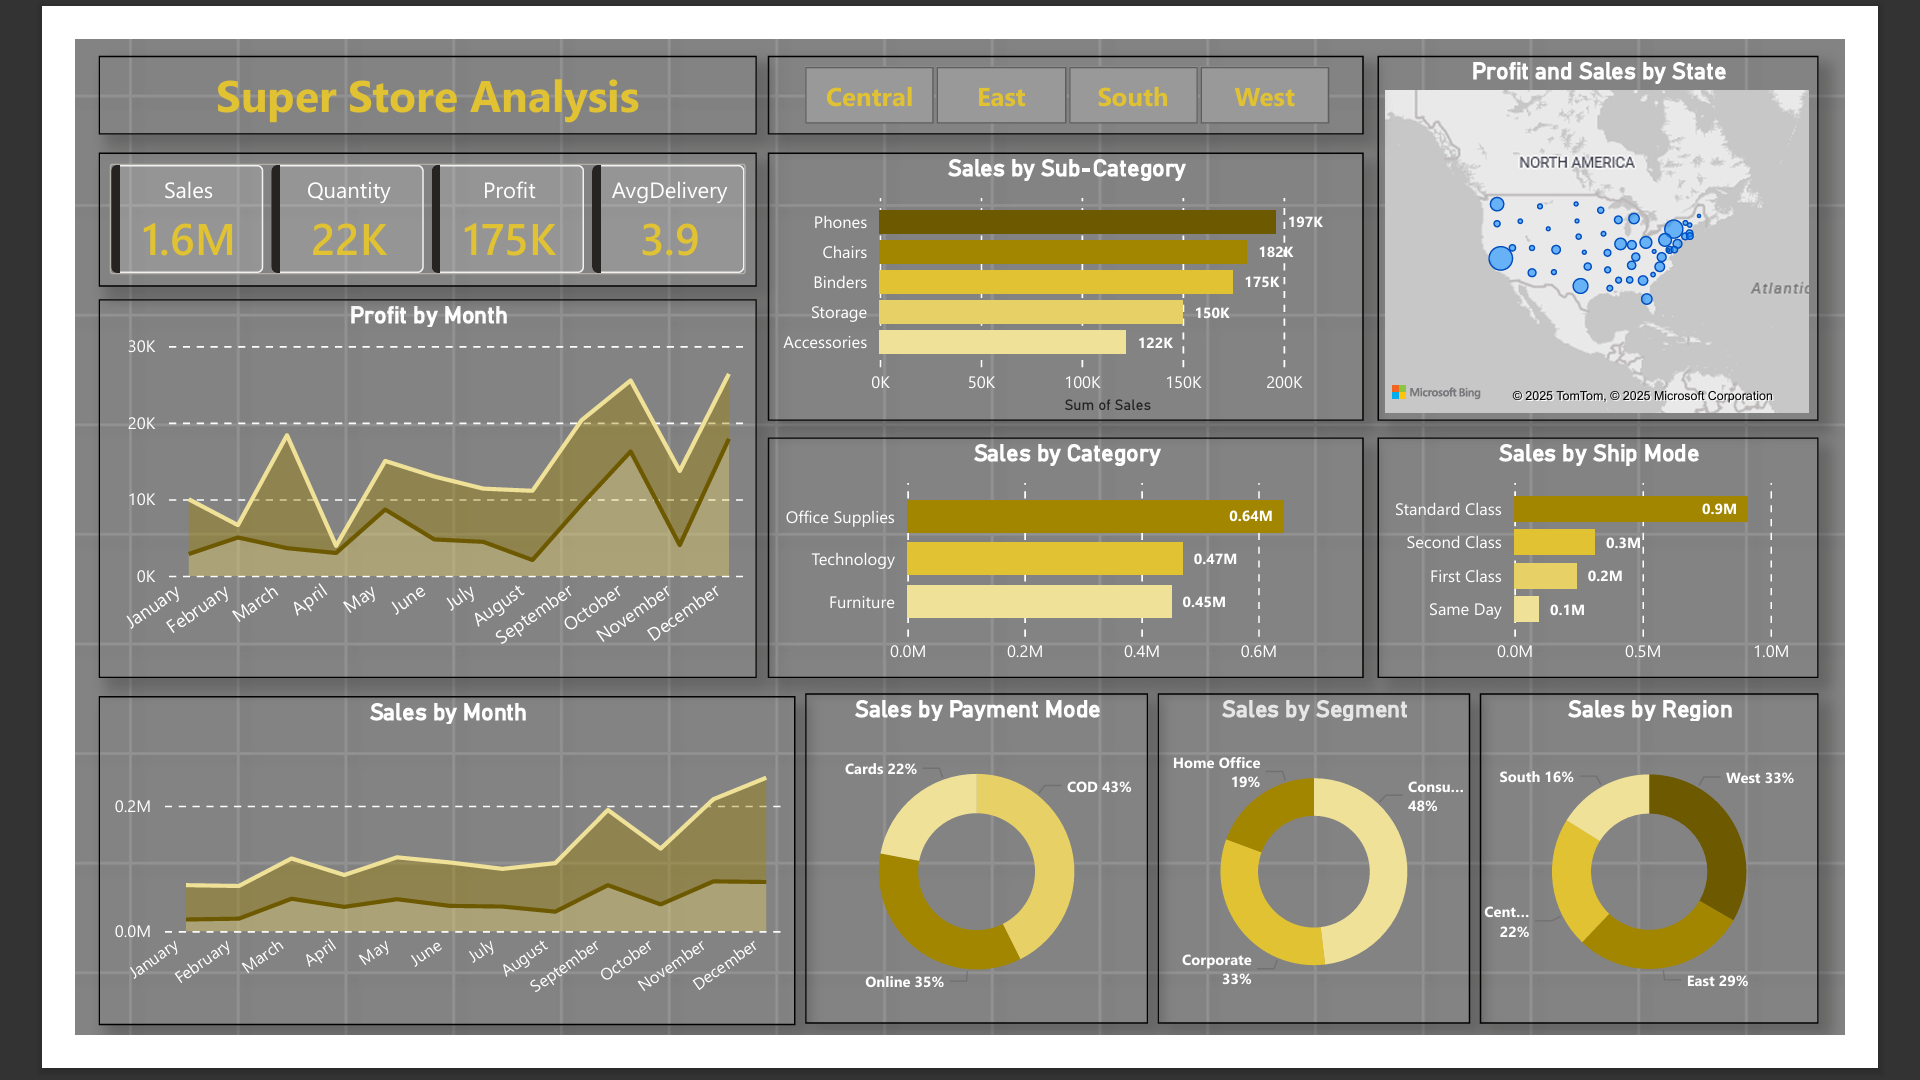

What the dashboard file says about the page in this screenshot:
{"tool":"powerbi","page":{"name":"Dashboard","canvas":[1280,720],"ordinal":0},"visuals":[{"type":"clusteredBarChart","title":"Sales by Category","fields":{"Category":["SuperStore Sales Dataset.Category"],"Y":["Sum(SuperStore Sales Dataset.Sales)"]},"box":[500.7,288,431.3,173.7],"z":0},{"type":"clusteredBarChart","title":"Sales by Sub-Category","fields":{"Y":["Sum(SuperStore Sales Dataset.Sales)"],"Category":["SuperStore Sales Dataset.Sub-Category"]},"box":[500.7,82.5,431.3,193.9],"z":1000},{"type":"clusteredBarChart","title":"Sales by Ship Mode","fields":{"Y":["Sum(SuperStore Sales Dataset.Sales)"],"Category":["SuperStore Sales Dataset.Ship Mode"]},"box":[942.1,288,318.4,173.7],"z":2000},{"type":"stackedAreaChart","title":"Sales by Month","fields":{"Y":["Sum(SuperStore Sales Dataset.Sales)"],"Series":["SuperStore Sales Dataset.Order Date.Variation.Date Hierarchy.Year"],"Category":["SuperStore Sales Dataset.Order Date.Variation.Date Hierarchy.Month","SuperStore Sales Dataset.Order Date.Variation.Date Hierarchy.Day"]},"box":[17.4,474.7,503.6,238.8],"z":3000},{"type":"stackedAreaChart","title":"Profit by Month","fields":{"Series":["SuperStore Sales Dataset.Order Date.Variation.Date Hierarchy.Year"],"Category":["SuperStore Sales Dataset.Order Date.Variation.Date Hierarchy.Month","SuperStore Sales Dataset.Order Date.Variation.Date Hierarchy.Day"],"Y":["Sum(SuperStore Sales Dataset.Profit)"]},"box":[17.4,188.1,476.1,273.5],"z":4000},{"type":"map","title":"Profit and Sales by State","fields":{"Category":["SuperStore Sales Dataset.State"],"Size":["Sum(SuperStore Sales Dataset.Sales)"]},"box":[942.1,11.6,318.4,264.8],"z":5000},{"type":"donutChart","title":"Sales by Segment","fields":{"Category":["SuperStore Sales Dataset.Segment"],"Y":["Sum(SuperStore Sales Dataset.Sales)"]},"box":[782.9,473.2,225.8,238.8],"z":6000},{"type":"donutChart","title":"Sales by Payment Mode","fields":{"Category":["SuperStore Sales Dataset.Payment Mode"],"Y":["Sum(SuperStore Sales Dataset.Sales)"]},"box":[528.2,473.2,247.5,238.8],"z":7000},{"type":"slicer","fields":{"Values":["SuperStore Sales Dataset.Region"]},"box":[500.7,11.6,431.3,57],"z":8000},{"type":"cardVisual","fields":{"Data":["Sum(SuperStore Sales Dataset.Sales)","Sum(SuperStore Sales Dataset.Quantity)","Sum(SuperStore Sales Dataset.Profit)","Avg(SuperStore Sales Dataset.AvgDelivery)"]},"box":[17.4,82.5,476.1,97],"z":9000},{"type":"textbox","box":[17.4,11.6,476.1,57.9],"z":10000},{"type":"donutChart","title":"Sales by Region","fields":{"Y":["Sum(SuperStore Sales Dataset.Sales)"],"Category":["SuperStore Sales Dataset.Region"]},"box":[1015.9,473.2,244.6,238.8],"z":11000}]}

Visuals, with their boxes in screenshot pixels (x1, y1, x2, y2), scaled from the page's 1280x720 canvas onto the 1920x1080 screenshot:
"Sales by Category" clusteredBarChart: left=751, top=432, right=1398, bottom=693
"Sales by Sub-Category" clusteredBarChart: left=751, top=124, right=1398, bottom=415
"Sales by Ship Mode" clusteredBarChart: left=1413, top=432, right=1891, bottom=693
"Sales by Month" stackedAreaChart: left=26, top=712, right=782, bottom=1070
"Profit by Month" stackedAreaChart: left=26, top=282, right=740, bottom=692
"Profit and Sales by State" map: left=1413, top=17, right=1891, bottom=415
"Sales by Segment" donutChart: left=1174, top=710, right=1513, bottom=1068
"Sales by Payment Mode" donutChart: left=792, top=710, right=1164, bottom=1068
slicer - SuperStore Sales Dataset.Region: left=751, top=17, right=1398, bottom=103
cardVisual - Sum(SuperStore Sales Dataset.Sales) x Sum(SuperStore Sales Dataset.Quantity): left=26, top=124, right=740, bottom=269
textbox: left=26, top=17, right=740, bottom=104
"Sales by Region" donutChart: left=1524, top=710, right=1891, bottom=1068
